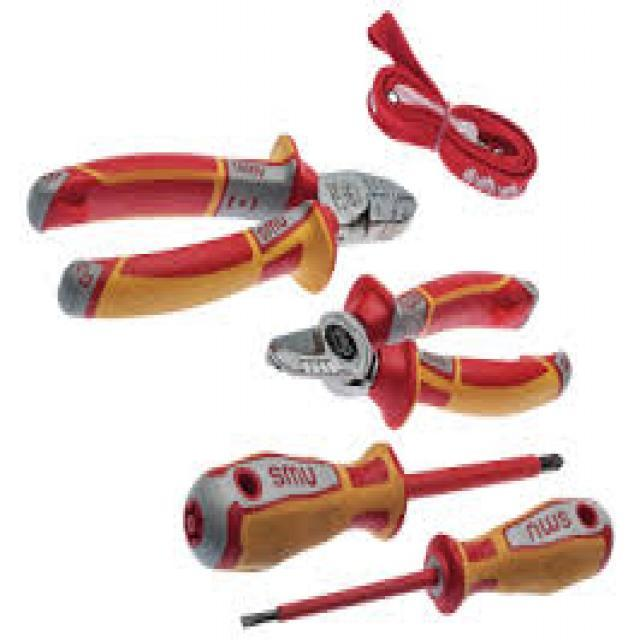pliers: (20, 122, 428, 336), (269, 259, 574, 443)
screwdriver: (159, 428, 576, 584), (234, 486, 621, 638)
